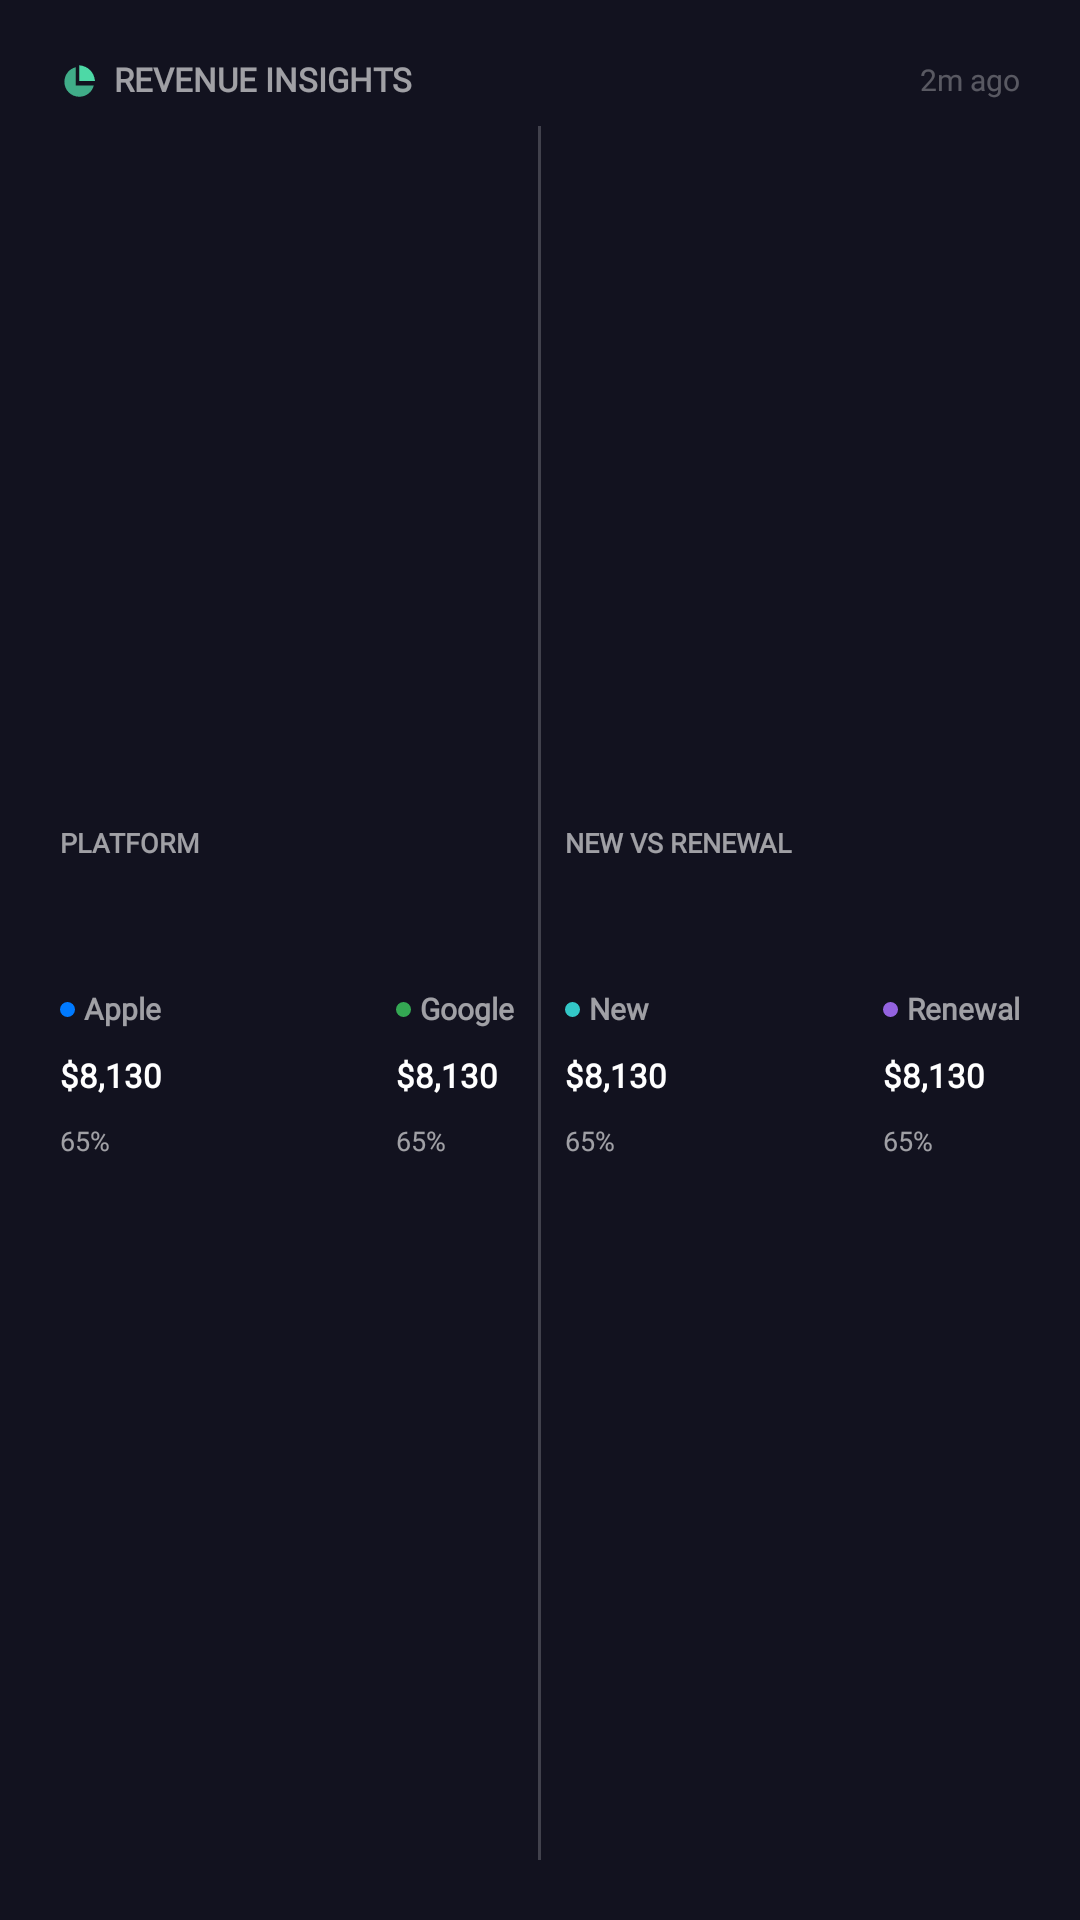

Icon bounding boxes for this 1080px×1920px phone screenshot, format (x1,y1,x2,y2):
widget chart pie: (64,65,95,97)
